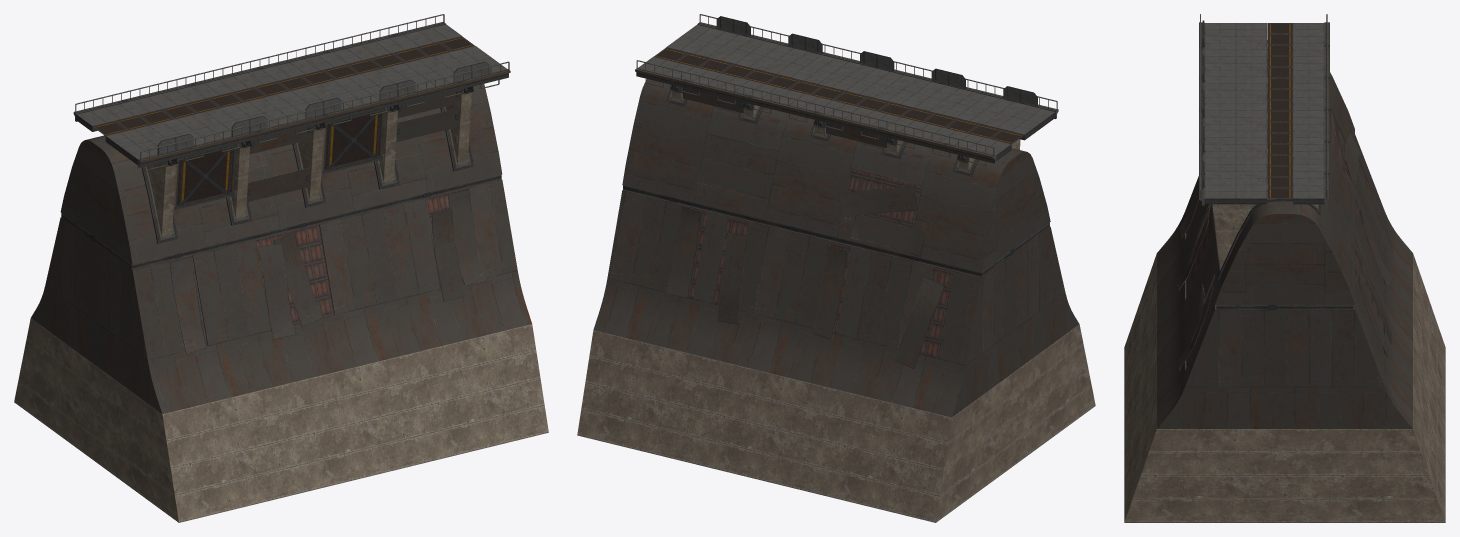
Rendered from Wall1B.fbx.
The picture shows the model from 3 angles, left to right: view 1: azimuth 30°, elevation 25°; view 2: azimuth 150°, elevation 25°; view 3: azimuth 270°, elevation 25°; orthographic projection. The views are drawn at different scales.
Parts seen in each view (by area): view 1: polySurface899; view 2: polySurface899; view 3: polySurface899.
Part boxes in pixels (left/top/right/bottom): polySurface899: left=14, top=14, right=548, bottom=522; polySurface899: left=577, top=14, right=1095, bottom=522; polySurface899: left=1124, top=14, right=1445, bottom=522.
Size of the model in its own units: 4000 by 3587 by 3090.
